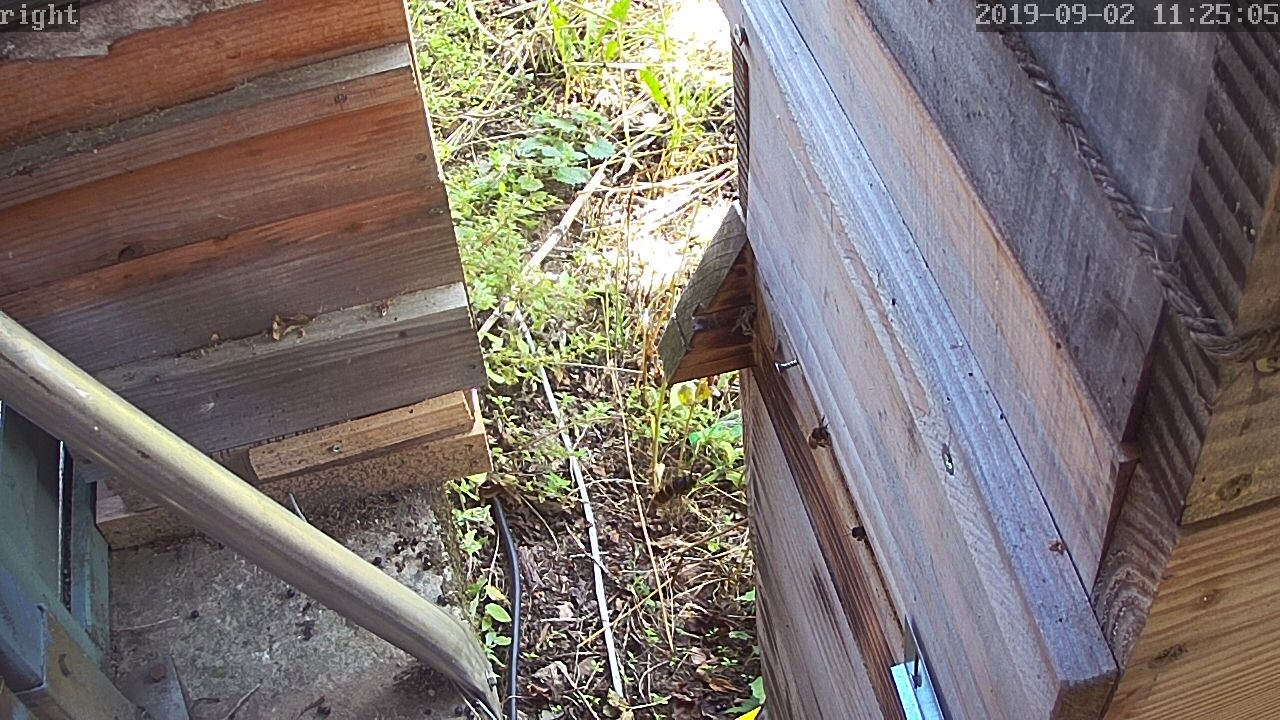hornet: (643, 459, 696, 505), (807, 423, 840, 459)
